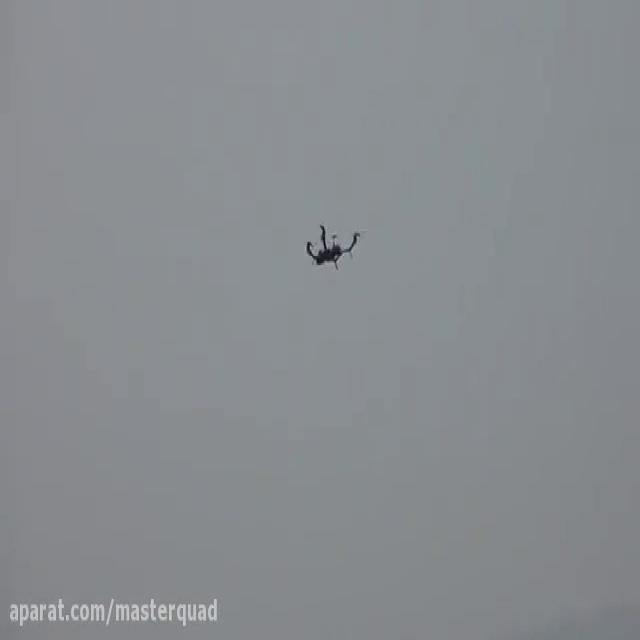drone: (301, 214, 367, 278)
